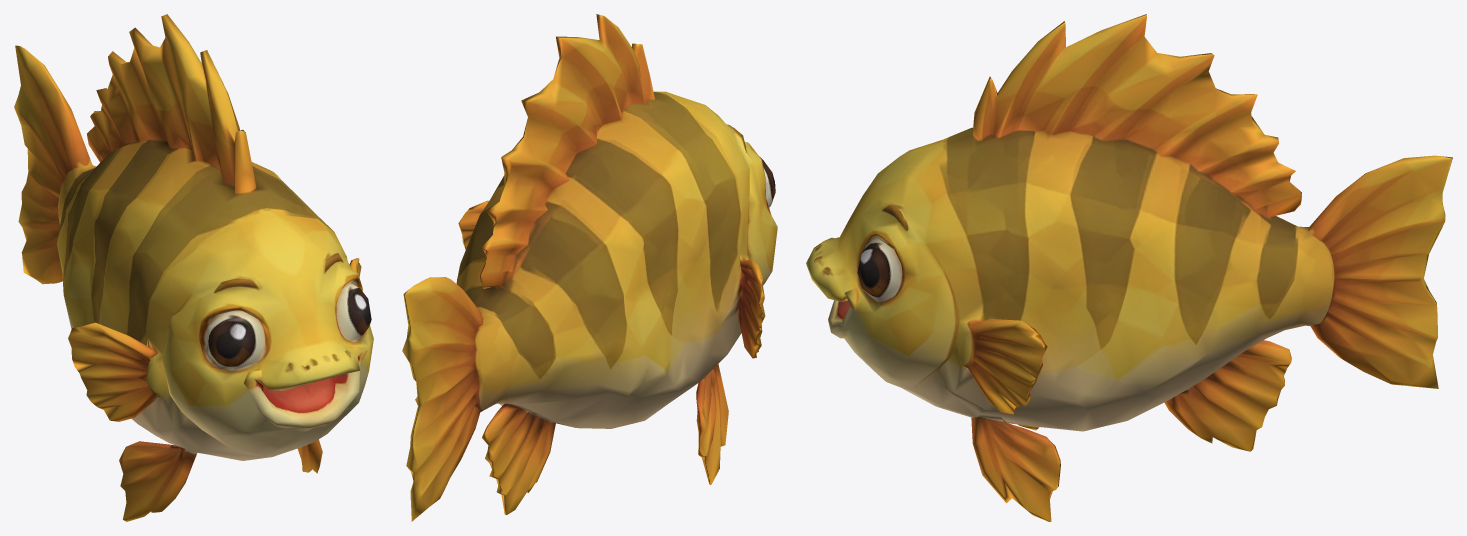
Rendered from butterperch.glb.
3 views of the same model, side by side, from view 1: azimuth 30°, elevation 25°; view 2: azimuth 150°, elevation 25°; view 3: azimuth 270°, elevation 25° (orthographic). The views are drawn at different scales.
Parts seen in each view (by area): view 1: tripo_node_d2671695-5416-4eb8-98a5-91ee9d32d26c; view 2: tripo_node_d2671695-5416-4eb8-98a5-91ee9d32d26c; view 3: tripo_node_d2671695-5416-4eb8-98a5-91ee9d32d26c.
Boxes of the visible parts, x1=… form: tripo_node_d2671695-5416-4eb8-98a5-91ee9d32d26c: x1=14, y1=14, x2=373, y2=521; tripo_node_d2671695-5416-4eb8-98a5-91ee9d32d26c: x1=402, y1=14, x2=777, y2=521; tripo_node_d2671695-5416-4eb8-98a5-91ee9d32d26c: x1=806, y1=14, x2=1452, y2=521.
Bounding box in the file's own units: 0.5428 × 0.7878 × 1.
Materials: 1 (1 with a texture image).
